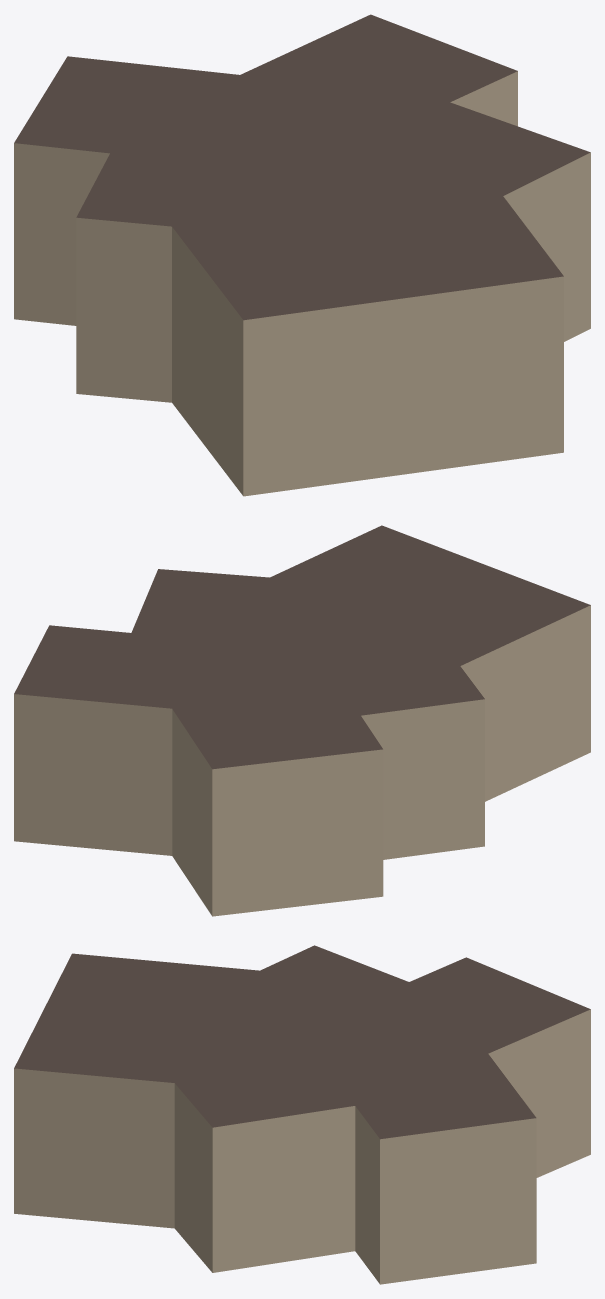
3 views of the same model, one above another, from view 1: azimuth 30°, elevation 25°; view 2: azimuth 150°, elevation 25°; view 3: azimuth 270°, elevation 25° (orthographic). The views are drawn at different scales.
Parts seen in each view (by area): view 1: HP-r11759552; view 2: HP-r11759552; view 3: HP-r11759552.
Part boxes in pixels (x1,y1,x2,y2): HP-r11759552: (14,14,590,496); HP-r11759552: (14,525,590,916); HP-r11759552: (14,945,590,1284).
Size of the model in its own units: 25.75 by 9 by 32.37.
